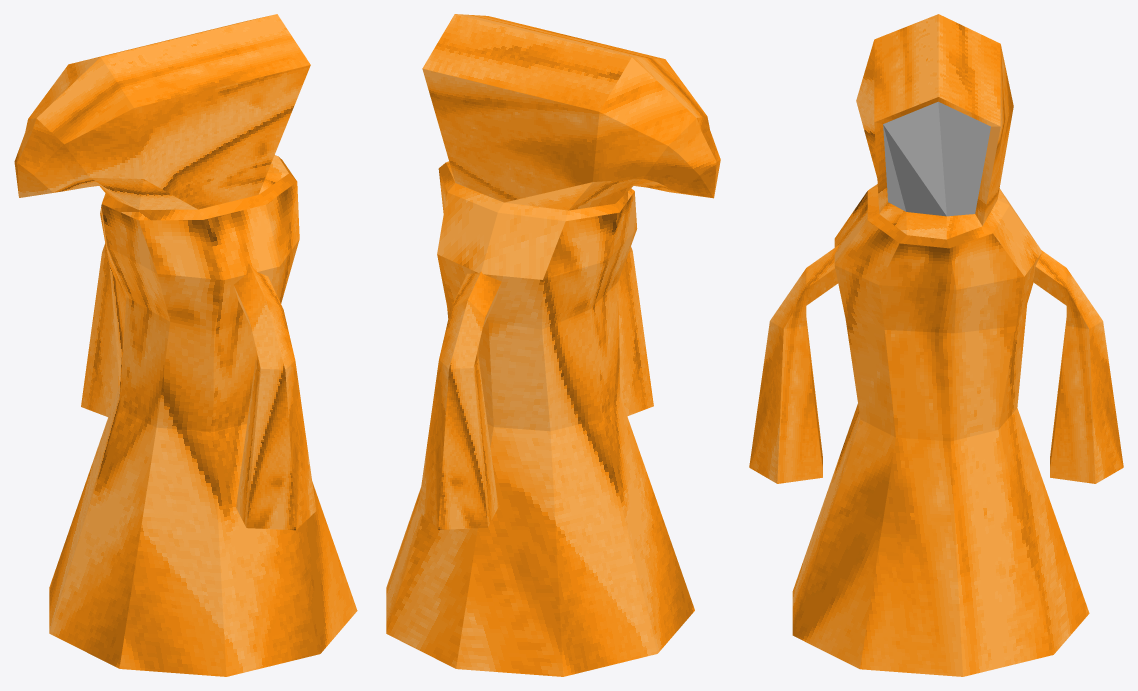
Rendered from wizardOrange.glb.
3 views of the same model, side by side, from view 1: azimuth 30°, elevation 25°; view 2: azimuth 150°, elevation 25°; view 3: azimuth 270°, elevation 25° (orthographic). The views are drawn at different scales.
Parts seen in each view (by area): view 1: WizTorso, WizHood, WizArmR, WizArmL; view 2: WizTorso, WizHood, WizArmL, WizArmR; view 3: WizTorso, WizHood, WizArmL, WizArmR.
Boxes of the visible parts, <box> form: WizTorso: <box>49,156,357,676</box>; WizHood: <box>14,14,310,209</box>; WizArmR: <box>234,263,316,530</box>; WizArmL: <box>81,243,119,416</box>; WizTorso: <box>386,162,694,676</box>; WizHood: <box>422,14,720,210</box>; WizArmL: <box>418,271,501,529</box>; WizArmR: <box>618,247,653,416</box>; WizTorso: <box>792,184,1089,676</box>; WizHood: <box>856,14,1013,239</box>; WizArmL: <box>1033,250,1123,483</box>; WizArmR: <box>749,244,839,483</box>.
Size of the model in its own units: 1.57 by 2.73 by 1.67.
Materials: 5 (4 with a texture image).
